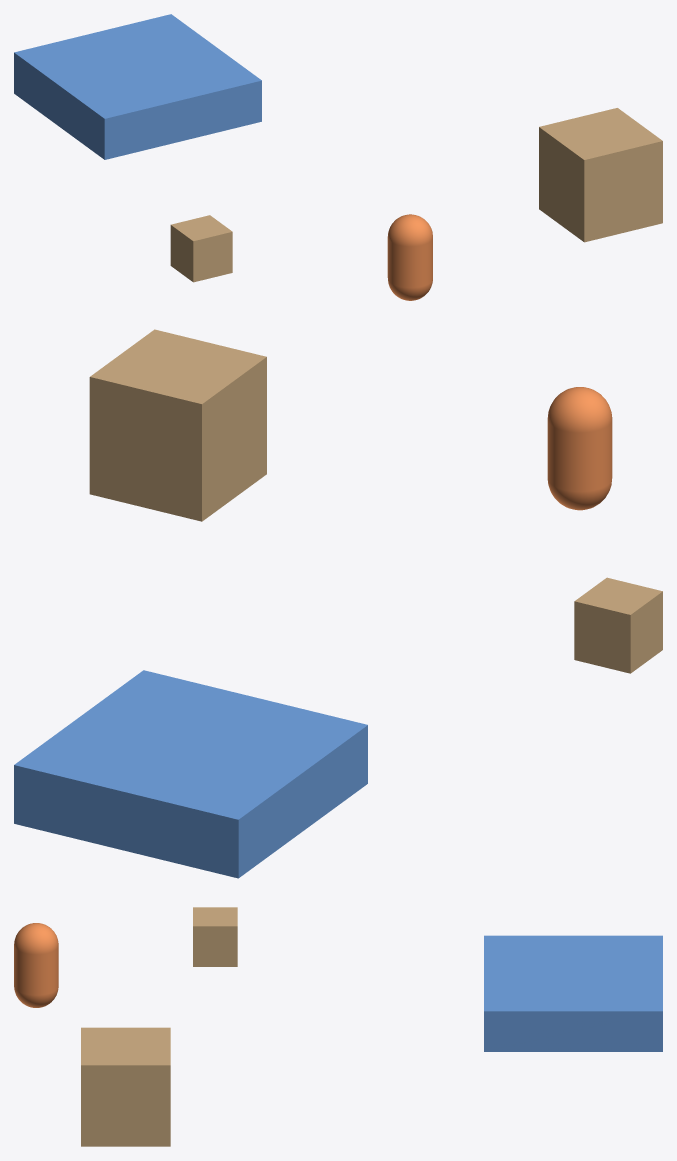
The picture shows the model from 3 angles, top to bottom: view 1: azimuth 30°, elevation 25°; view 2: azimuth 150°, elevation 25°; view 3: azimuth 270°, elevation 25°; orthographic projection. The views are drawn at different scales.
Visible parts, largest first — view 1: Ledge, Crate1, Player, Crate2; view 2: Ledge, Crate1, Player, Crate2; view 3: Ledge, Crate1, Player, Crate2.
Boxes of the visible parts, left/top/right/bottom form: Ledge: left=14, top=14, right=261, bottom=159; Crate1: left=539, top=108, right=662, bottom=242; Player: left=387, top=214, right=432, bottom=300; Crate2: left=170, top=215, right=232, bottom=282; Ledge: left=14, top=670, right=367, bottom=878; Crate1: left=89, top=329, right=266, bottom=521; Player: left=547, top=387, right=612, bottom=510; Crate2: left=574, top=577, right=662, bottom=673; Ledge: left=484, top=935, right=662, bottom=1051; Crate1: left=81, top=1027, right=170, bottom=1146; Player: left=14, top=923, right=58, bottom=1007; Crate2: left=193, top=907, right=237, bottom=966.
Size of what is drawn, in the model's own units: 10.5 by 2.2 by 14.5.
